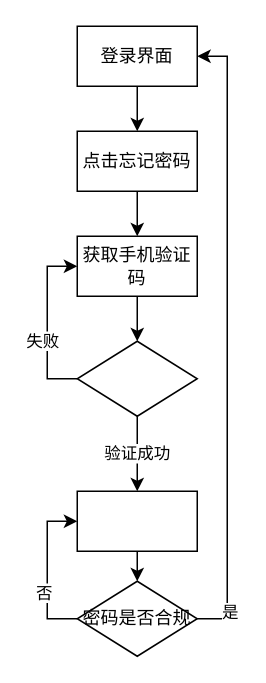
The diagram is 266 pixels wide and 683 high, and some of its shapes have lost their labels. The shapes that lost their labels are listed below. From the top down, each one's centre as x and y in pixels, then its label:
the point at 136,378: 验证验证码
the point at 136,520: 设置新密码
